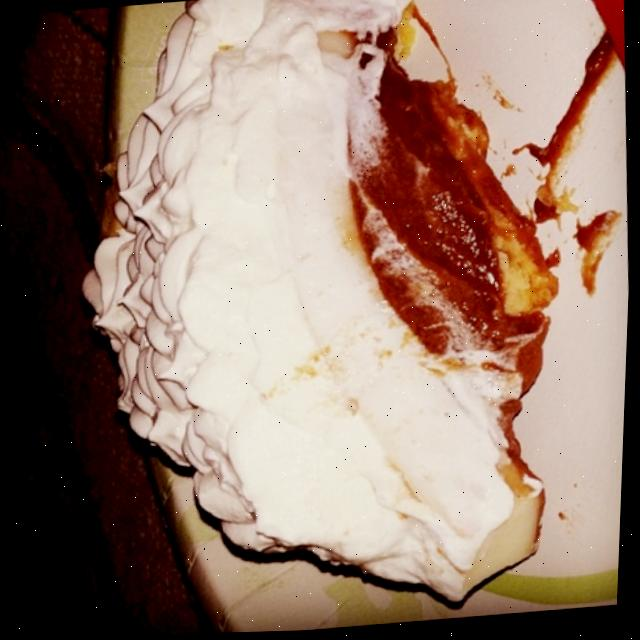蛋糕甜品: (36, 0, 639, 615)
